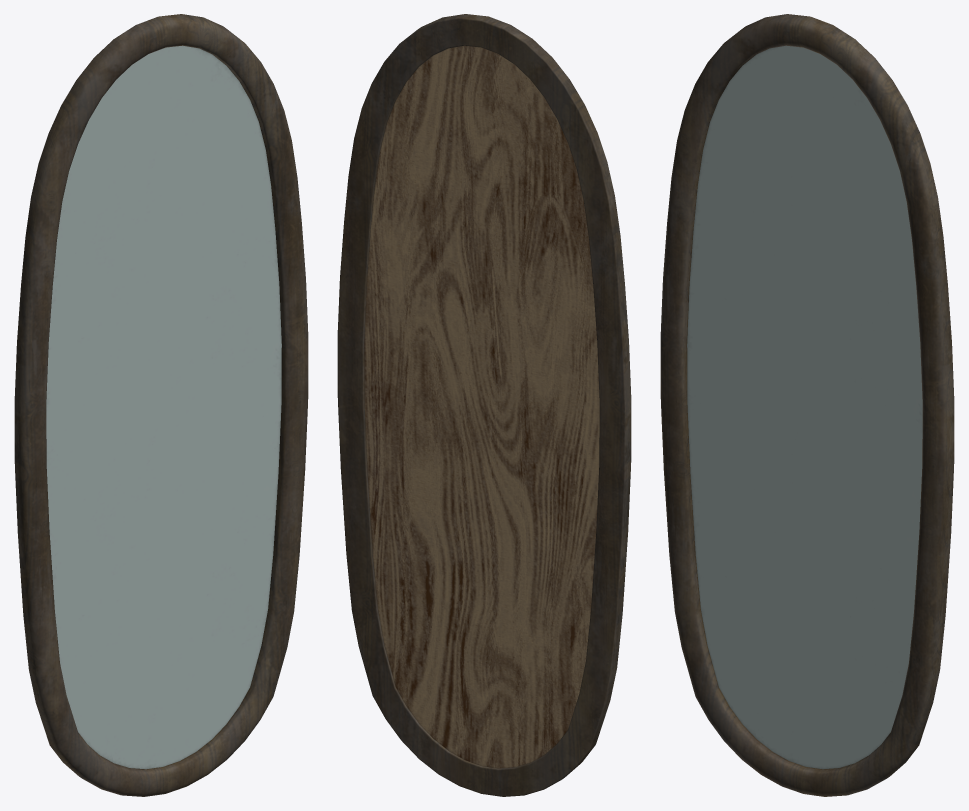
File: mirror.glb
The picture shows the model from 3 angles, left to right: view 1: azimuth 30°, elevation 25°; view 2: azimuth 150°, elevation 25°; view 3: azimuth 330°, elevation 25°; orthographic projection.
Parts seen in each view (by area): view 1: mirrorCMirror, mirrorCFrame; view 2: mirrorCMirrorBack, mirrorCFrame; view 3: mirrorCMirror, mirrorCFrame.
Boxes of the visible parts, x1,y1,x2,y2 form: mirrorCMirror: [46, 45, 281, 769]; mirrorCFrame: [14, 14, 308, 796]; mirrorCMirrorBack: [364, 45, 599, 768]; mirrorCFrame: [337, 14, 631, 796]; mirrorCMirror: [687, 45, 922, 769]; mirrorCFrame: [660, 14, 954, 796].
Bounding box in the file's own units: 0.5829 × 1.49 × 0.0345.
Materials: 1 (1 with a texture image).
